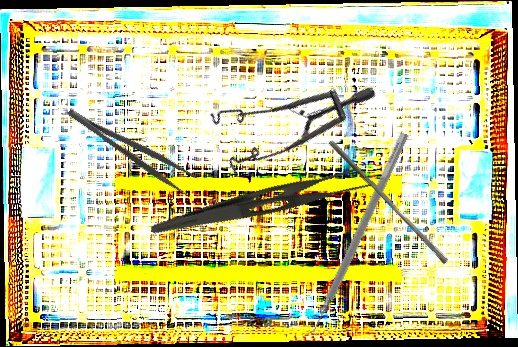Dressing Forceps: (149, 154, 377, 259), (65, 95, 199, 199)
Pusher: (322, 138, 454, 266)
Spatula Surgical: (299, 127, 410, 344)
Speculum: (190, 17, 380, 209)
